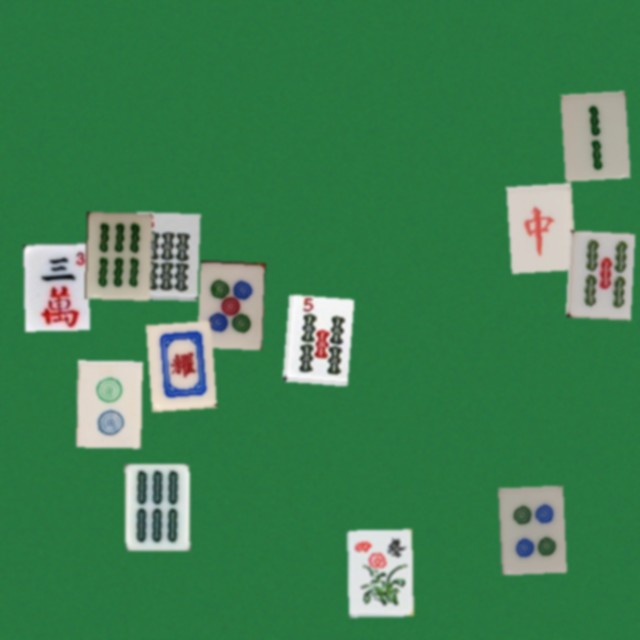tile: (506, 183, 571, 270), (76, 360, 141, 447), (132, 211, 197, 298), (22, 243, 87, 330), (347, 529, 412, 616), (560, 91, 625, 178), (197, 260, 262, 347), (282, 294, 347, 381), (145, 320, 210, 407), (498, 485, 563, 572), (84, 211, 149, 298), (565, 230, 630, 317), (124, 463, 189, 550)
